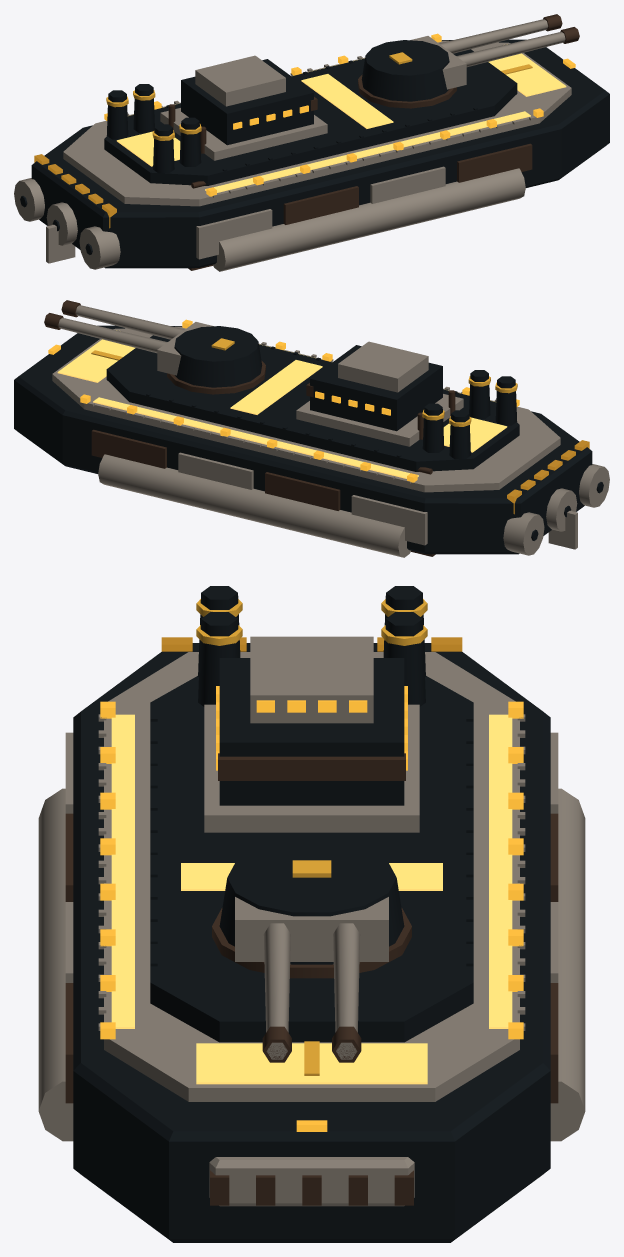
The model's file is bulwark-bathyarch.glb.
3 renders of one model, top to bottom at view 1: azimuth 30°, elevation 25°; view 2: azimuth 150°, elevation 25°; view 3: azimuth 270°, elevation 25°, orthographic. The views are drawn at different scales.
Parts seen in each view (by area): view 1: hull_slab, armour_tier_2, armour_tier_1, ballast_s, citadel, turret, citadel_top, armour_tier_3, flood_strip_s, flank_plate_s0, flood_deck_mid, flank_plate_s3 (+16 smaller); view 2: hull_slab, armour_tier_2, armour_tier_1, ballast_p, citadel, turret, citadel_top, armour_tier_3, flood_strip_p, flank_plate_p0, flood_deck_mid, flank_plate_p3 (+16 smaller); view 3: hull_slab, armour_tier_2, armour_tier_1, citadel, turret, citadel_top, ballast_s, ballast_p, armour_tier_3, flood_deck_fwd, ram_plate, flood_strip_s (+13 smaller).
Part boxes in pixels (box(x1,y1,x2,y2)): hull_slab: box(31, 39, 609, 268); armour_tier_2: box(104, 49, 517, 185); armour_tier_1: box(63, 40, 571, 206); ballast_s: box(213, 168, 525, 271); citadel: box(181, 59, 313, 145); turret: box(361, 40, 449, 101); citadel_top: box(195, 55, 285, 106); armour_tier_3: box(160, 108, 327, 160); flood_strip_s: box(205, 111, 530, 192); flank_plate_s0: box(196, 209, 272, 259); flood_deck_mid: box(301, 74, 393, 128); flank_plate_s3: box(457, 143, 532, 182); hull_slab: box(14, 325, 592, 554); armour_tier_2: box(106, 335, 519, 471); armour_tier_1: box(52, 326, 560, 492); ballast_p: box(98, 454, 410, 557); citadel: box(310, 345, 442, 431); turret: box(174, 326, 262, 387); citadel_top: box(338, 341, 428, 392); armour_tier_3: box(296, 394, 463, 446); flood_strip_p: box(93, 397, 418, 478); flank_plate_p0: box(351, 495, 427, 545); flood_deck_mid: box(230, 360, 322, 414); flank_plate_p3: box(91, 429, 166, 468); hull_slab: box(73, 643, 550, 1242); armour_tier_2: box(150, 676, 473, 1042); armour_tier_1: box(104, 652, 519, 1101); citadel: box(219, 658, 404, 805); turret: box(219, 842, 404, 964); citadel_top: box(250, 636, 373, 723); ballast_s: box(38, 788, 73, 1141); ballast_p: box(550, 788, 585, 1141); armour_tier_3: box(204, 704, 419, 832); flood_deck_fwd: box(196, 1043, 427, 1084); ram_plate: box(209, 1157, 414, 1206); flood_strip_s: box(111, 714, 134, 1028).
Size of the model in its own units: 150 by 39.72 by 66.36.
